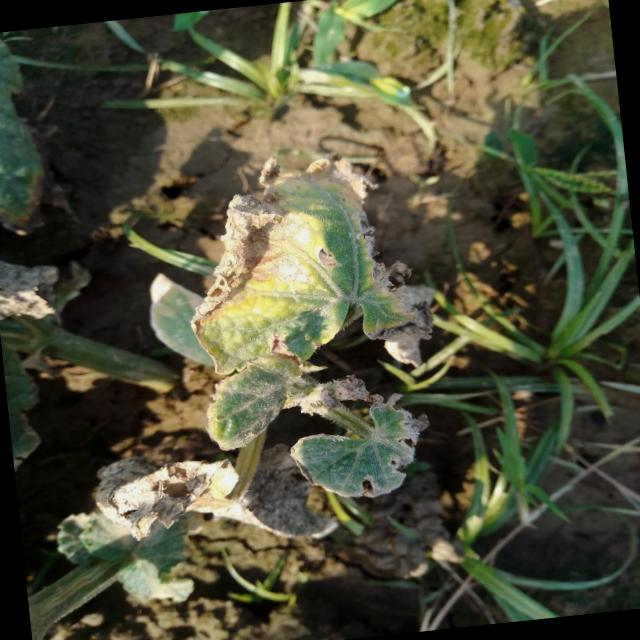cucumber_bacterial: (144, 132, 474, 456), (51, 452, 270, 610), (0, 248, 98, 510), (283, 374, 441, 518), (0, 32, 74, 247)
